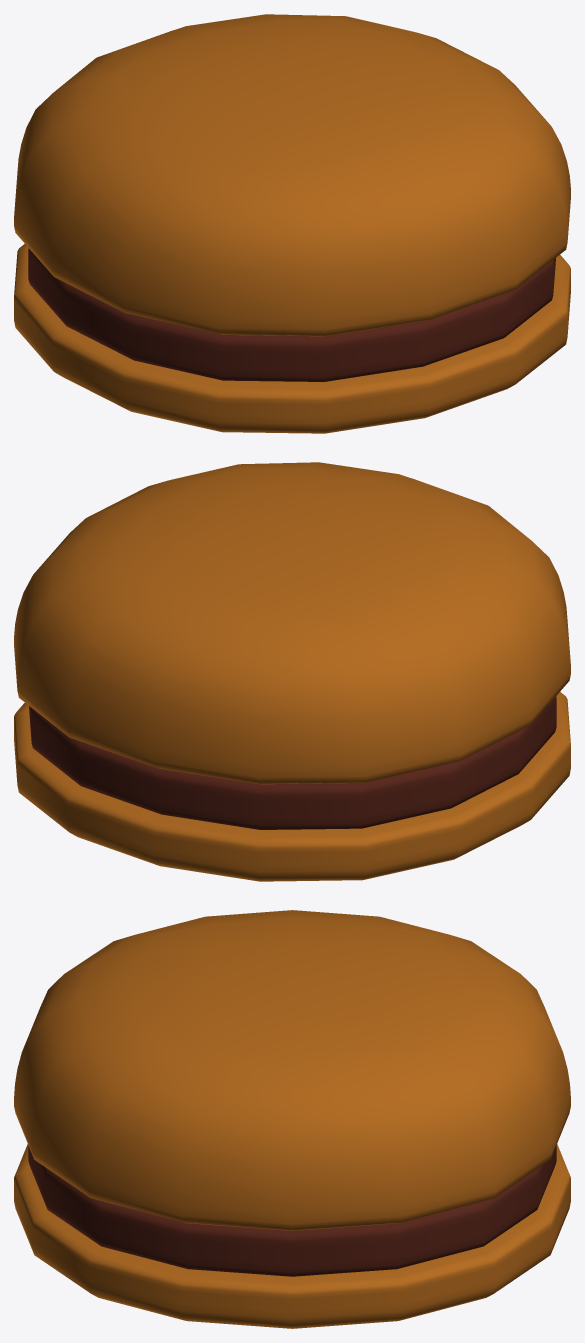
The model's file is hamburger.glb.
3 views of the same model, one above another, from view 1: azimuth 30°, elevation 25°; view 2: azimuth 150°, elevation 25°; view 3: azimuth 270°, elevation 25° (orthographic).
Visible parts, largest first — view 1: Top Bun, Bottom Bun, Burger; view 2: Top Bun, Bottom Bun, Burger; view 3: Top Bun, Bottom Bun, Burger.
Part boxes in pixels (box(x1,y1,x2,y2)): Top Bun: box(14, 14, 570, 336); Bottom Bun: box(14, 244, 570, 433); Burger: box(28, 248, 555, 381); Top Bun: box(14, 462, 570, 784); Bottom Bun: box(14, 692, 570, 881); Burger: box(29, 696, 556, 829); Top Bun: box(14, 910, 570, 1230); Bottom Bun: box(14, 1144, 570, 1328); Burger: box(28, 1145, 556, 1276).
Bounding box in the file's own units: 9.17 × 4.67 × 9.17.
